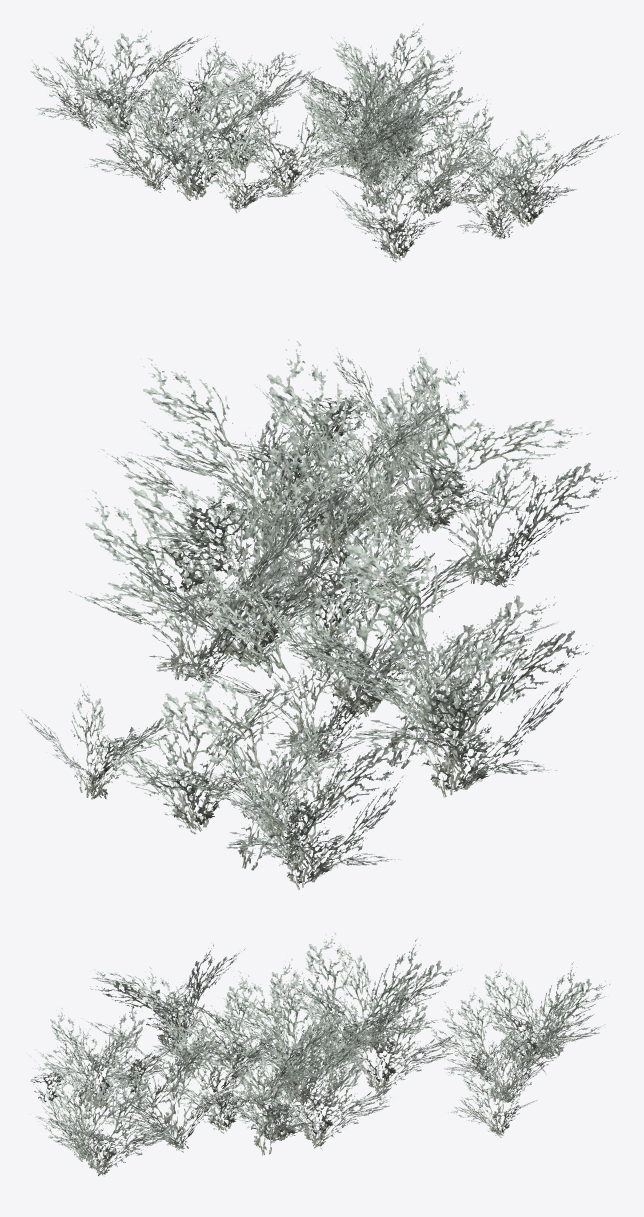
File: S_Tree_White004.FBX
3 views of the same model, one above another, from view 1: azimuth 30°, elevation 25°; view 2: azimuth 150°, elevation 25°; view 3: azimuth 270°, elevation 25° (orthographic). The views are drawn at different scales.
Visible parts, largest first — view 1: S_Tree_White004; view 2: S_Tree_White004; view 3: S_Tree_White004.
Boxes of the visible parts, x1,y1,x2,y2 form: S_Tree_White004: (30,23,619,262); S_Tree_White004: (22,339,617,889); S_Tree_White004: (29,932,610,1176).
Bounding box in the file's own units: 602 × 739 × 259.
